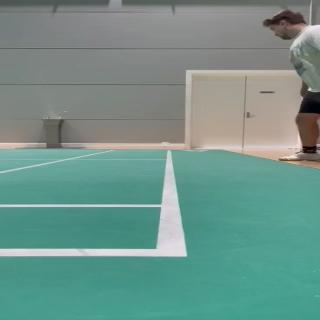Shuttle: (160, 142, 170, 148)
